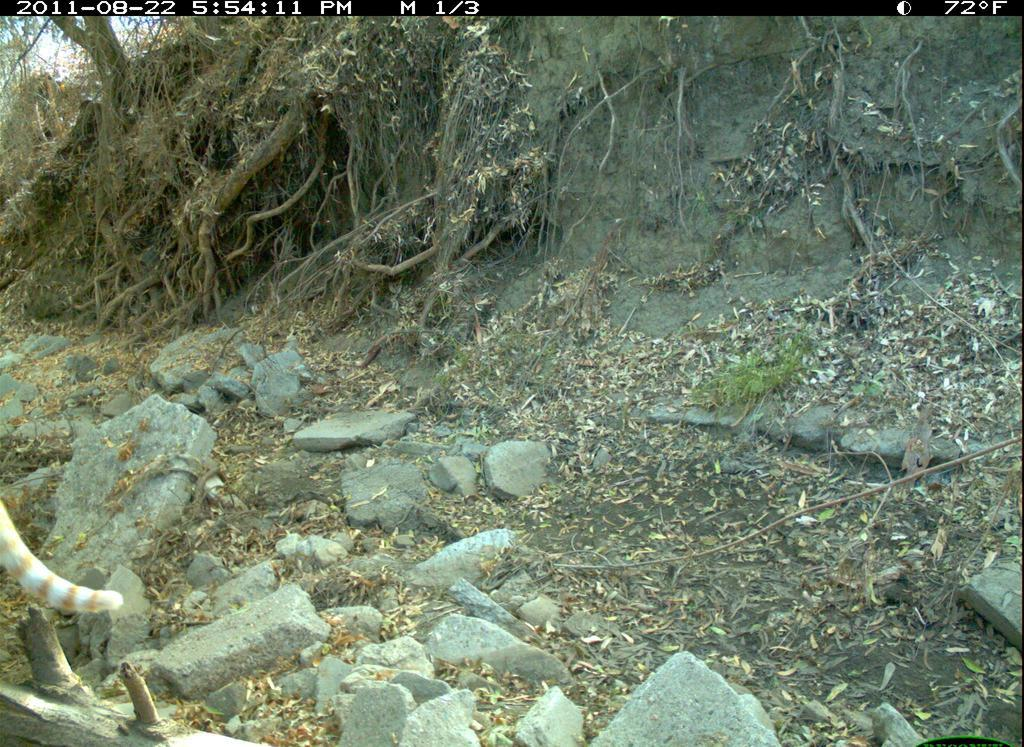cat: (3, 495, 132, 629)
